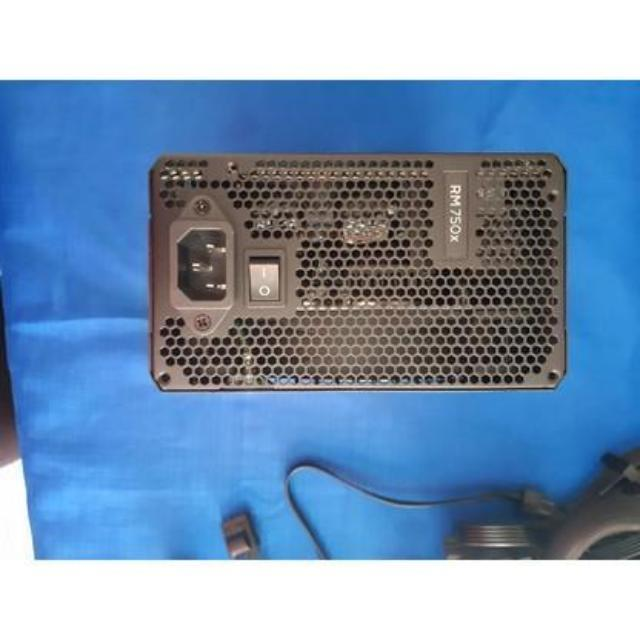PSU: (130, 130, 578, 413)
